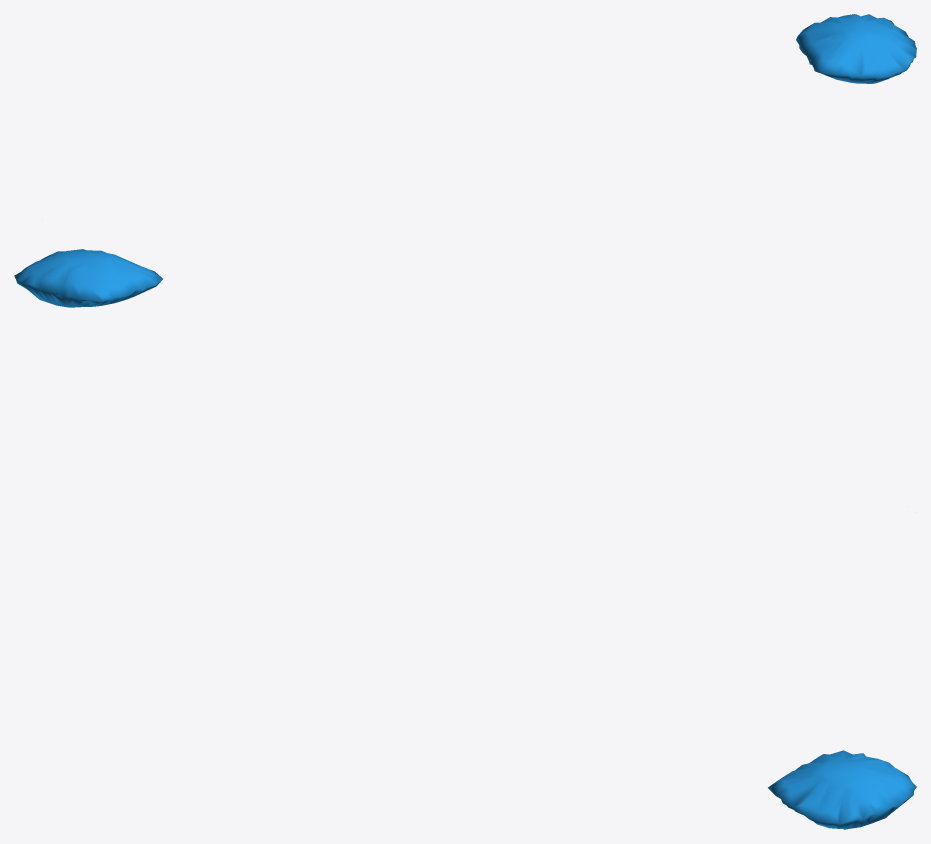
File: SM_mushroom_blue_05.fbx
3 renders of one model, top to bottom at view 1: azimuth 30°, elevation 25°; view 2: azimuth 150°, elevation 25°; view 3: azimuth 330°, elevation 25°, orthographic. The views are drawn at different scales.
Parts seen in each view (by area): view 1: mushroom_blue_05; view 2: mushroom_blue_05; view 3: mushroom_blue_05.
Boxes of the visible parts, x1,y1,x2,y2 form: mushroom_blue_05: (796,14,916,83); mushroom_blue_05: (14,249,162,307); mushroom_blue_05: (768,750,916,829).
Size of the model in its own units: 3020 by 151 by 394.
